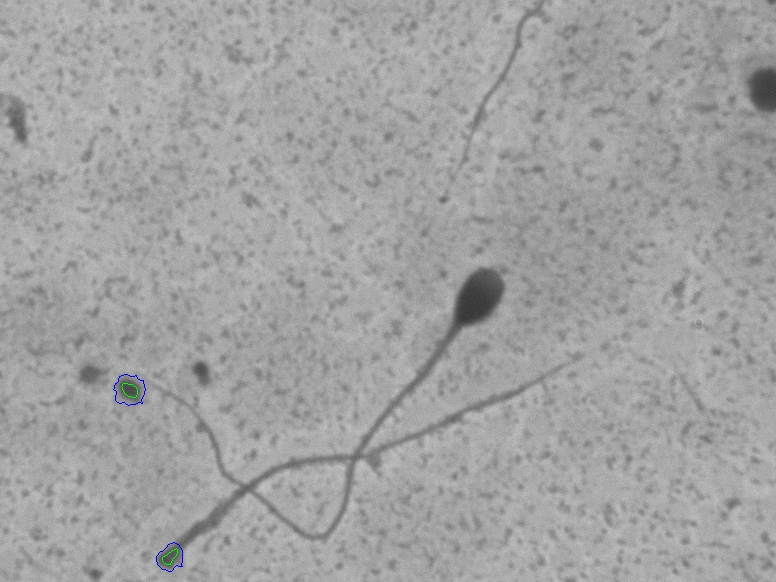Normal: (133, 231, 533, 554)
